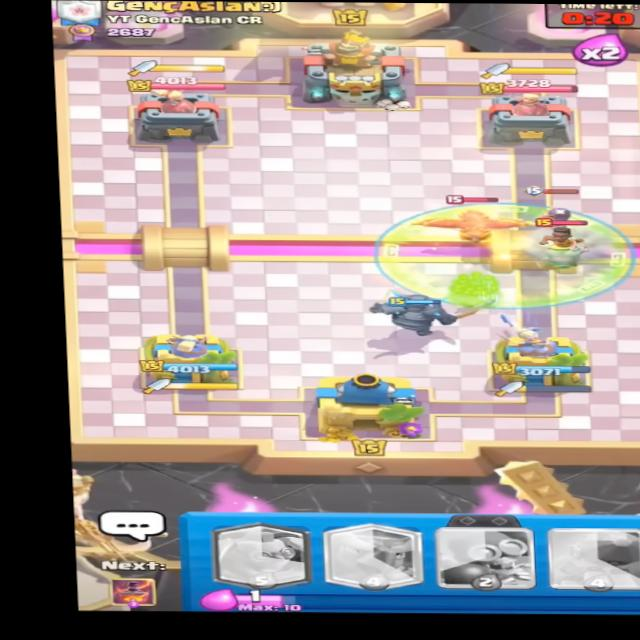evo-wizard: (524, 185, 590, 233)
phoenix: (407, 193, 527, 245)
ram-rider: (539, 214, 597, 266)
